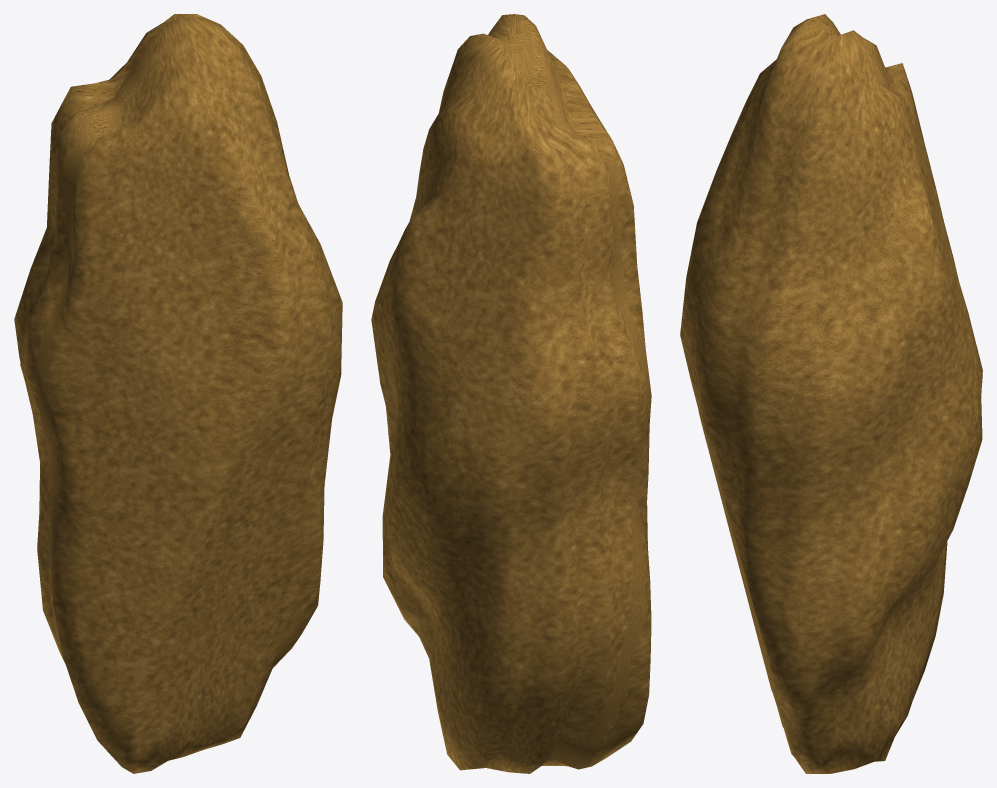
Rendered from obstacle_big_2.dae.
3 views of the same model, side by side, from view 1: azimuth 30°, elevation 25°; view 2: azimuth 150°, elevation 25°; view 3: azimuth 270°, elevation 25° (orthographic).
Visible parts, largest first — view 1: obstacle_big_2; view 2: obstacle_big_2; view 3: obstacle_big_2.
Boxes of the visible parts, bbox=[...] form: obstacle_big_2: bbox=[14, 14, 342, 773]; obstacle_big_2: bbox=[371, 14, 651, 773]; obstacle_big_2: bbox=[680, 14, 982, 773].
Size of the model in its own units: 1 by 0.9529 by 2.55.
Materials: 1 (1 with a texture image).
